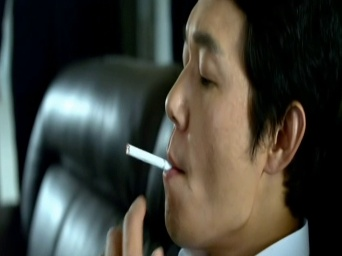smoke: (125, 143, 168, 169)
